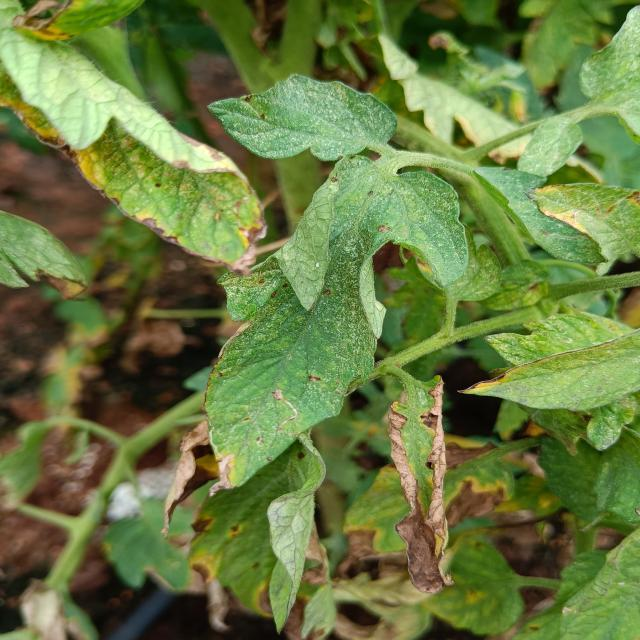Tomato mosaic virus leaf: (372, 374, 460, 598)
